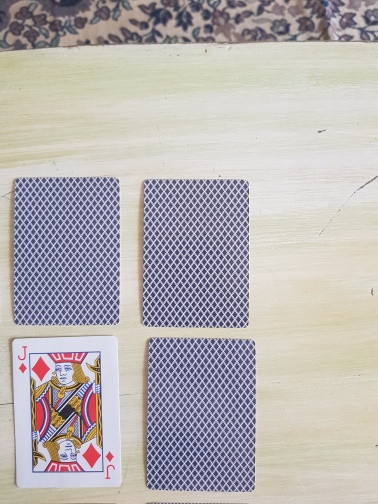jack: (10, 335, 123, 489)
